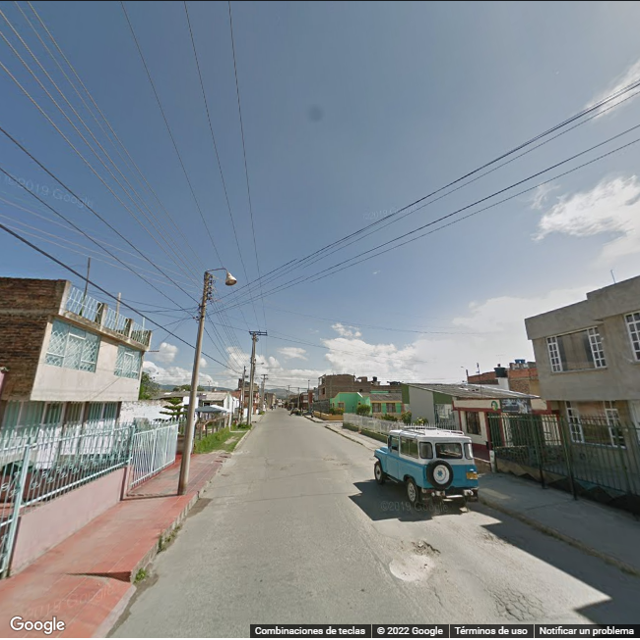D00: (426, 579, 460, 614)
D20: (493, 587, 562, 617)
D40: (411, 538, 449, 558)
